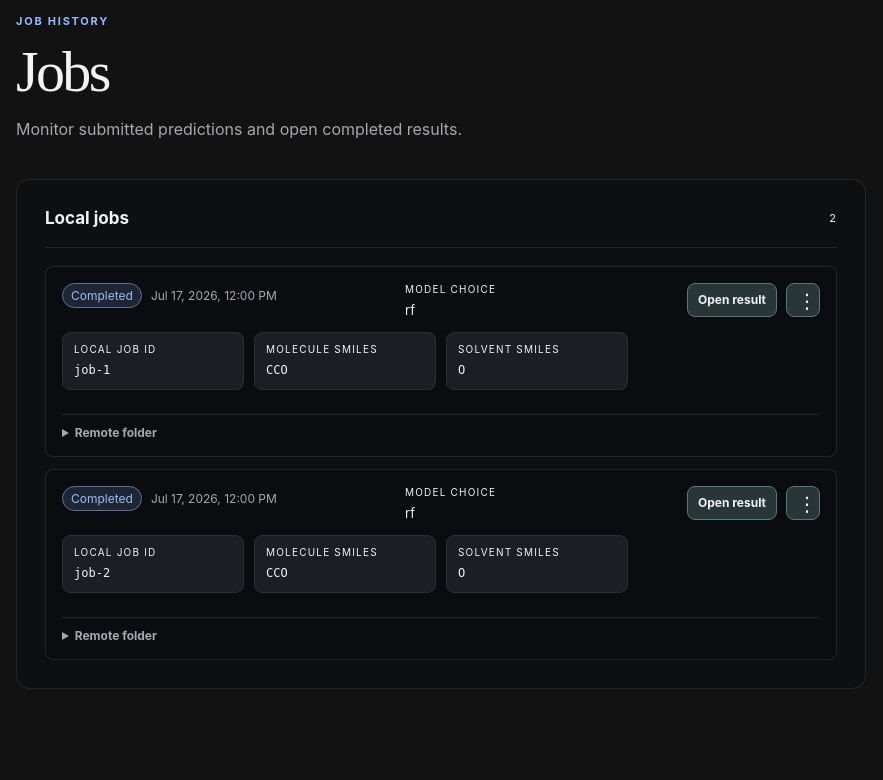
Test: JobsPage recovery actions › shows Add note for a job without a note and opens only that job editor
Check: the button "Add note" is not shown
Click the button named "More actions for job job-1" at coordinates (803, 300), box [786,282,820,316]
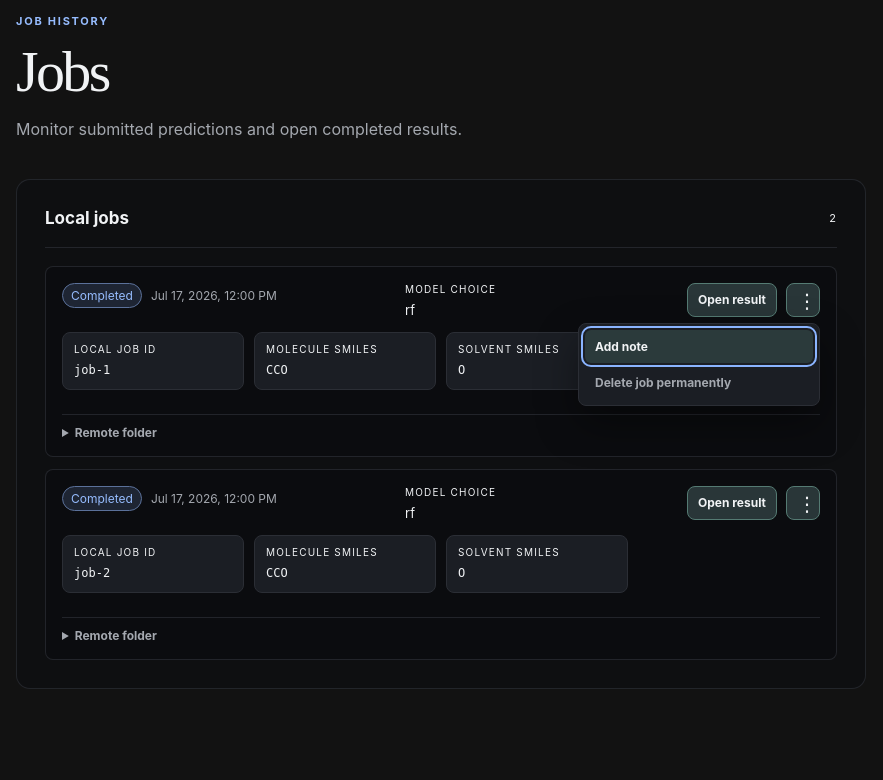
Check: the menu item "Add note" is shown
Click the menu item "Add note" at coordinates (699, 346), box [585,330,813,362]
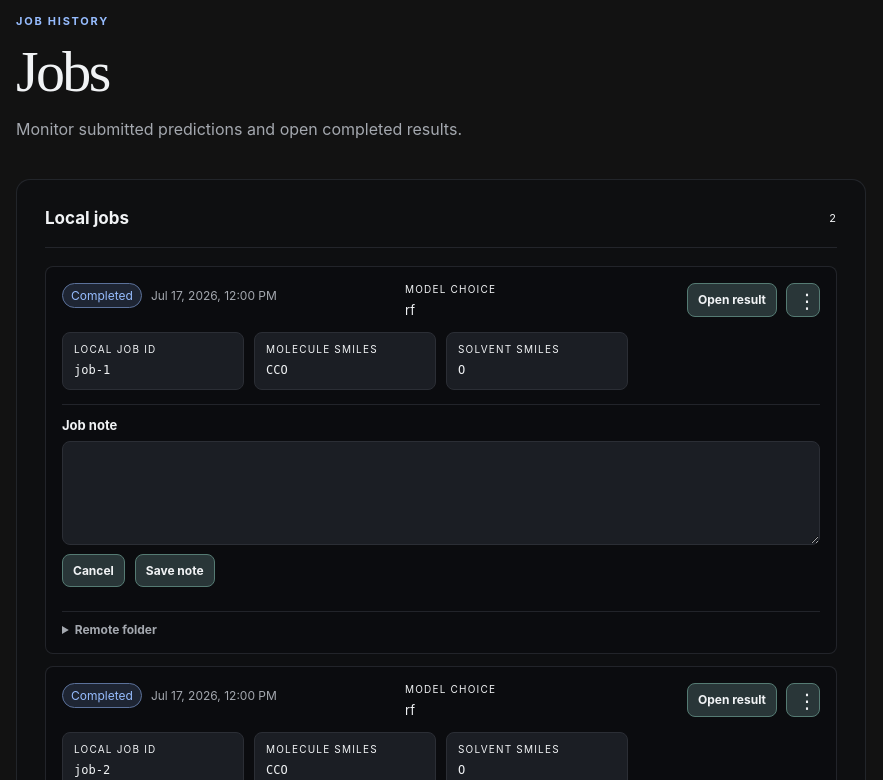
Check: the text box labelled "Job note" is shown, box [62,441,820,545]
Check: the menu is gone
